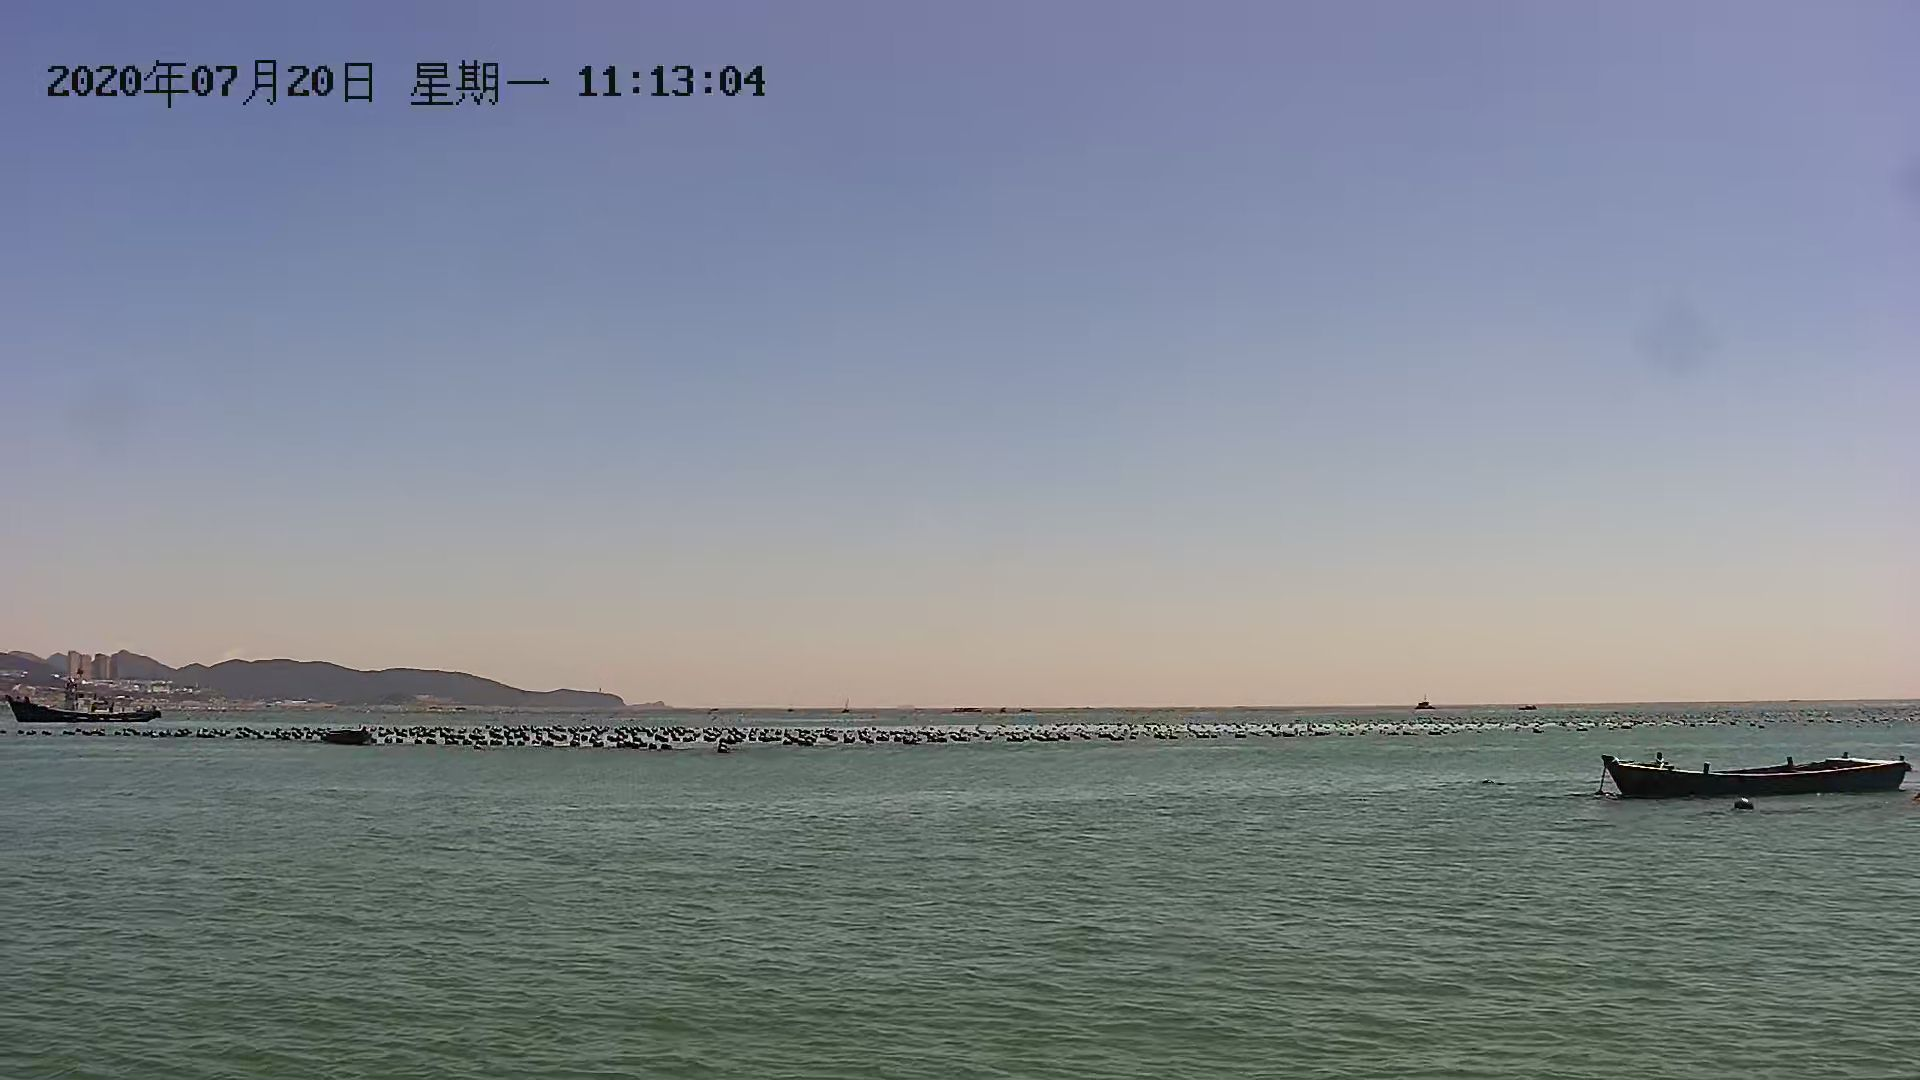ball: (1730, 794, 1758, 819)
boat: (1563, 753, 1920, 794), (1, 680, 166, 735), (316, 720, 385, 752)
rock: (1, 650, 655, 716)
